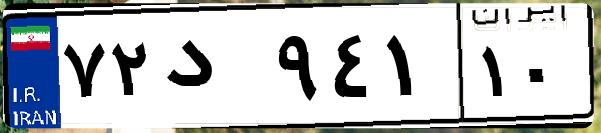0: (525, 38, 570, 115)
1: (385, 28, 445, 110), (475, 38, 525, 113)
2: (110, 28, 158, 98)
4: (330, 28, 385, 110)
7: (57, 26, 110, 100)
9: (270, 28, 330, 110)
د: (158, 20, 270, 120)
